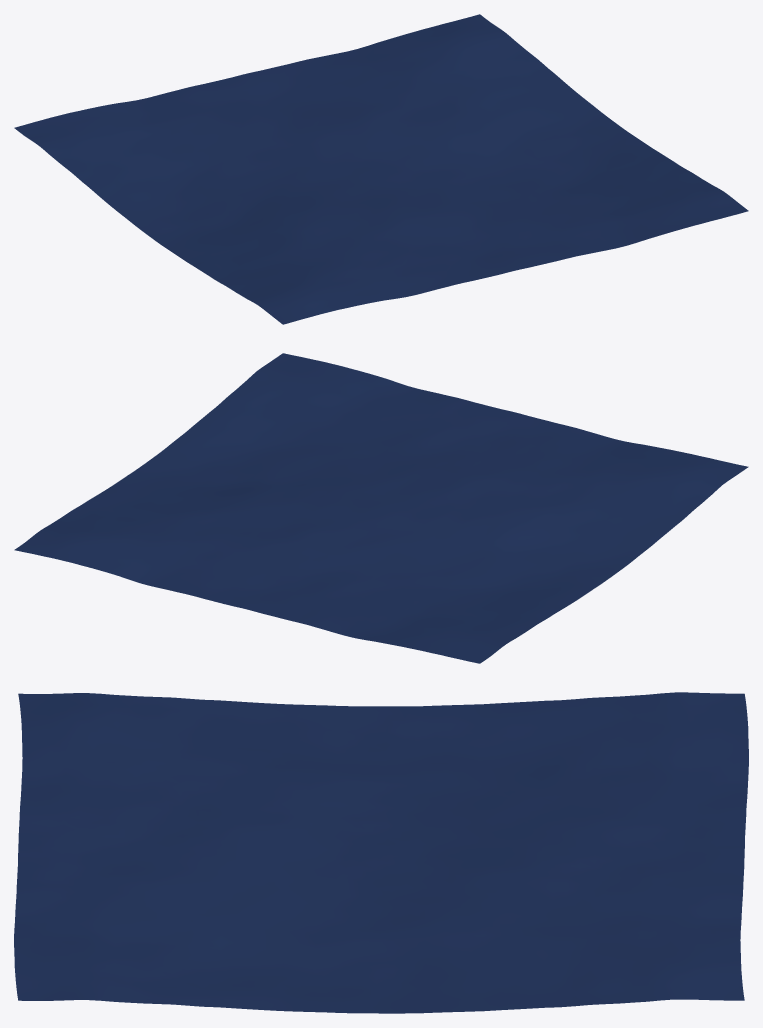
File: ocean.gltf
3 views of the same model, one above another, from view 1: azimuth 30°, elevation 25°; view 2: azimuth 150°, elevation 25°; view 3: azimuth 270°, elevation 25° (orthographic). The views are drawn at different scales.
Visible parts, largest first — view 1: Plane; view 2: Plane; view 3: Plane.
Part boxes in pixels (x1,y1,x2,y2): Plane: (14, 14, 748, 324); Plane: (14, 353, 748, 663); Plane: (14, 692, 748, 1013).
Size of the model in its own units: 1002 by 27.73 by 1012.
Materials: 1 (1 with a texture image).
